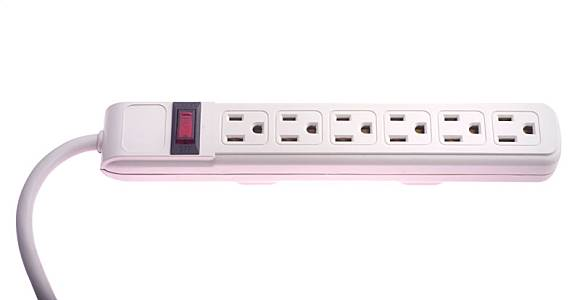Three_eye_plug: (91, 95, 565, 193)
